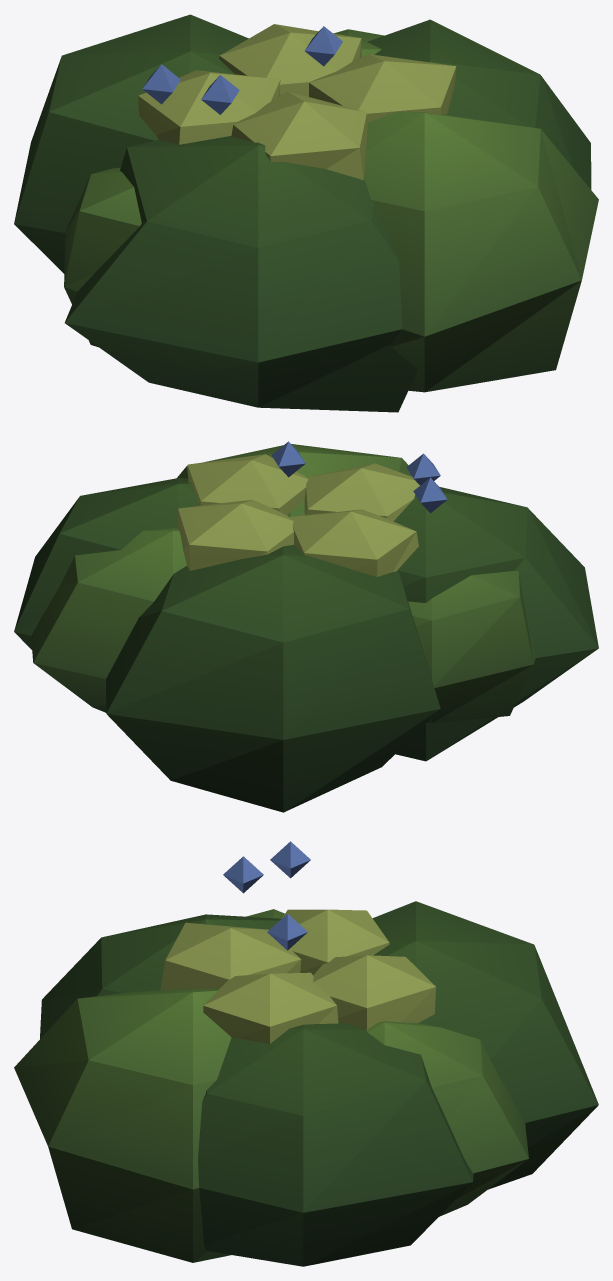
Rendered from fern_bush.glb.
3 renders of one model, top to bottom at view 1: azimuth 30°, elevation 25°; view 2: azimuth 150°, elevation 25°; view 3: azimuth 270°, elevation 25°, orthographic. The views are drawn at different scales.
Visible parts, largest first — view 1: fern_bush; view 2: fern_bush; view 3: fern_bush.
Boxes of the visible parts, x1=… form: fern_bush: x1=14, y1=14, x2=598, y2=412; fern_bush: x1=14, y1=441, x2=598, y2=812; fern_bush: x1=14, y1=841, x2=598, y2=1266.
Bounding box in the file's own units: 1.5 × 0.7916 × 1.42.
